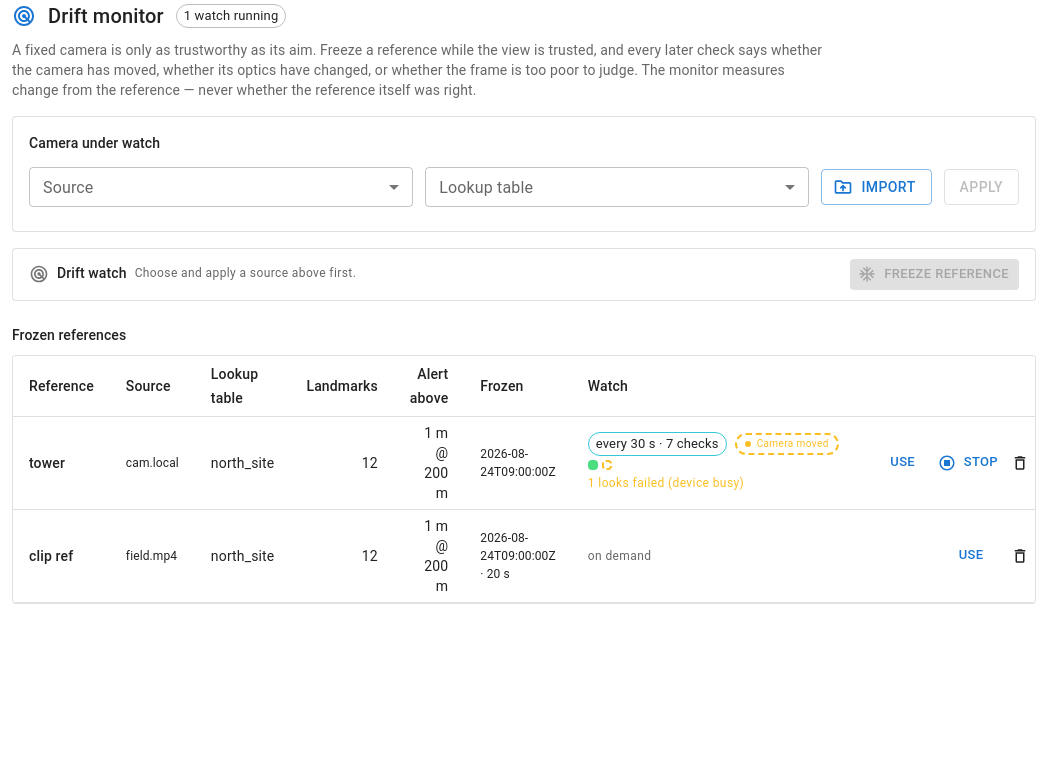
Test: the drift monitor page › ★ a lookup table with no pose cannot be chosen here, and says why
expect the table named "Frozen references" is shown: met, box [13, 356, 1036, 603]
Press the mouse on the dropdown named "Lookup table" at [617, 187], box [425, 167, 809, 207]
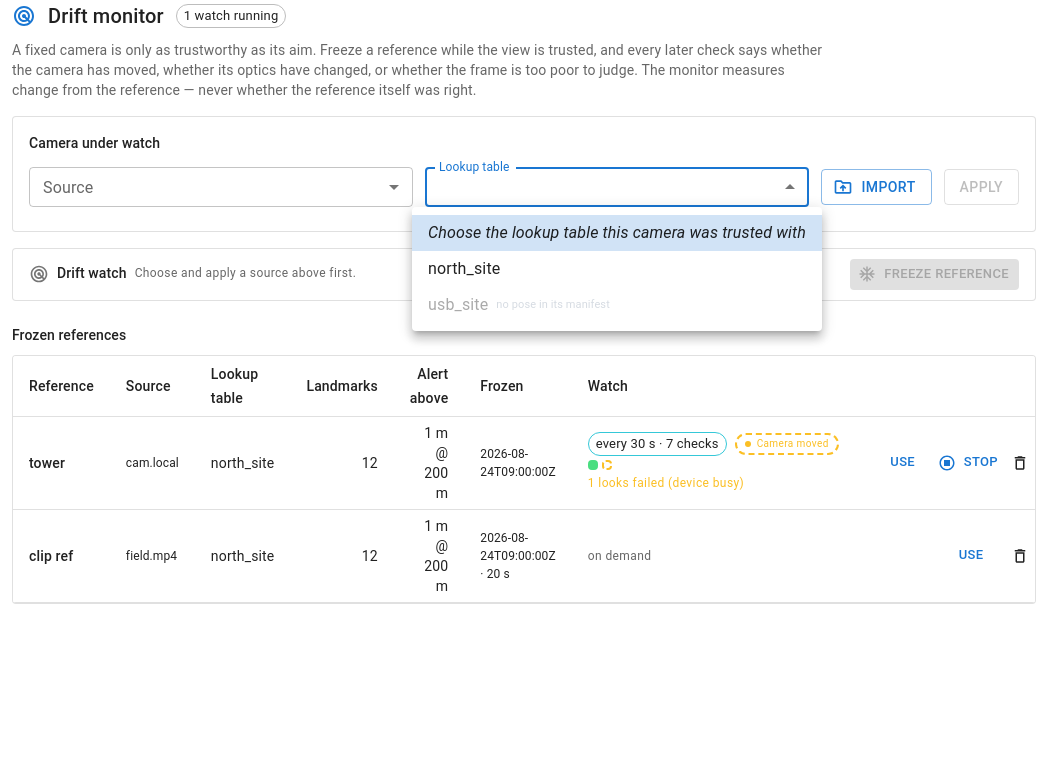
expect the text "no pose in its manifest" is shown: met, box [496, 297, 610, 313]
